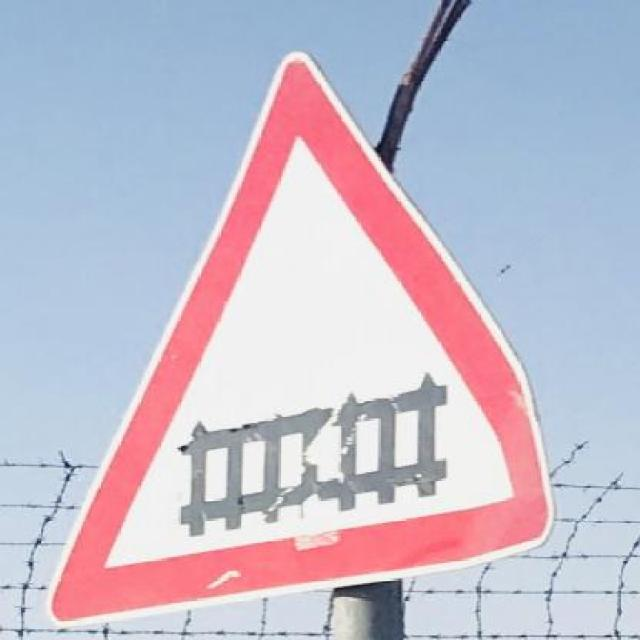guarded level crossing: (52, 50, 551, 601)
